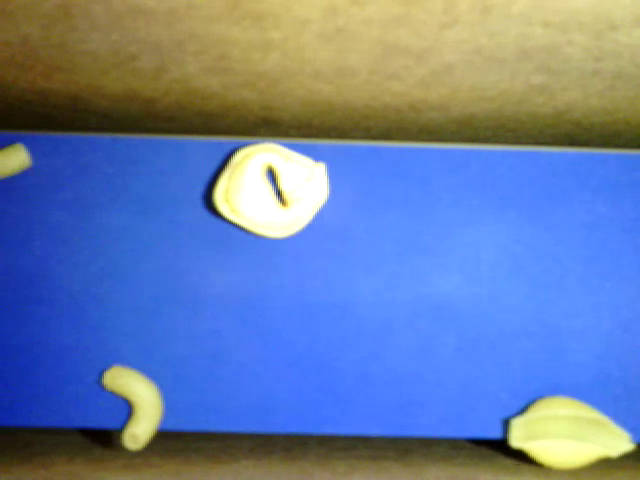elbow: (101, 364, 162, 450)
shell: (506, 394, 635, 468)
tortellini: (211, 140, 330, 239)
